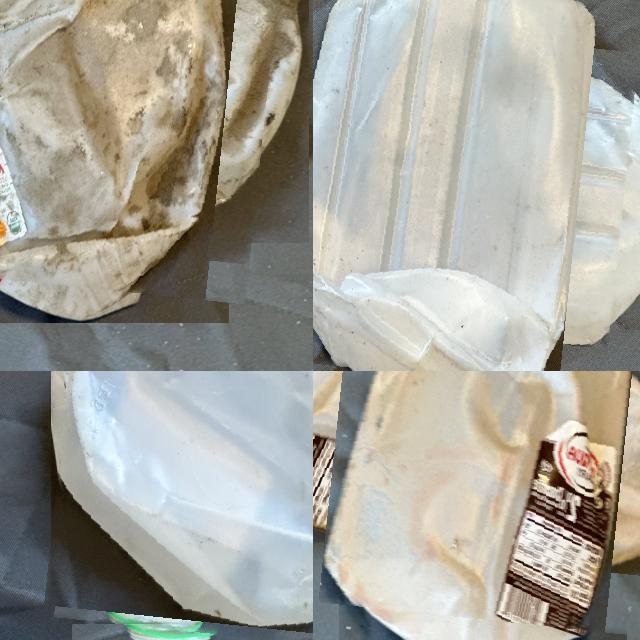milk-jug: (313, 0, 633, 371), (313, 371, 640, 628), (0, 0, 279, 292), (52, 371, 313, 640)
